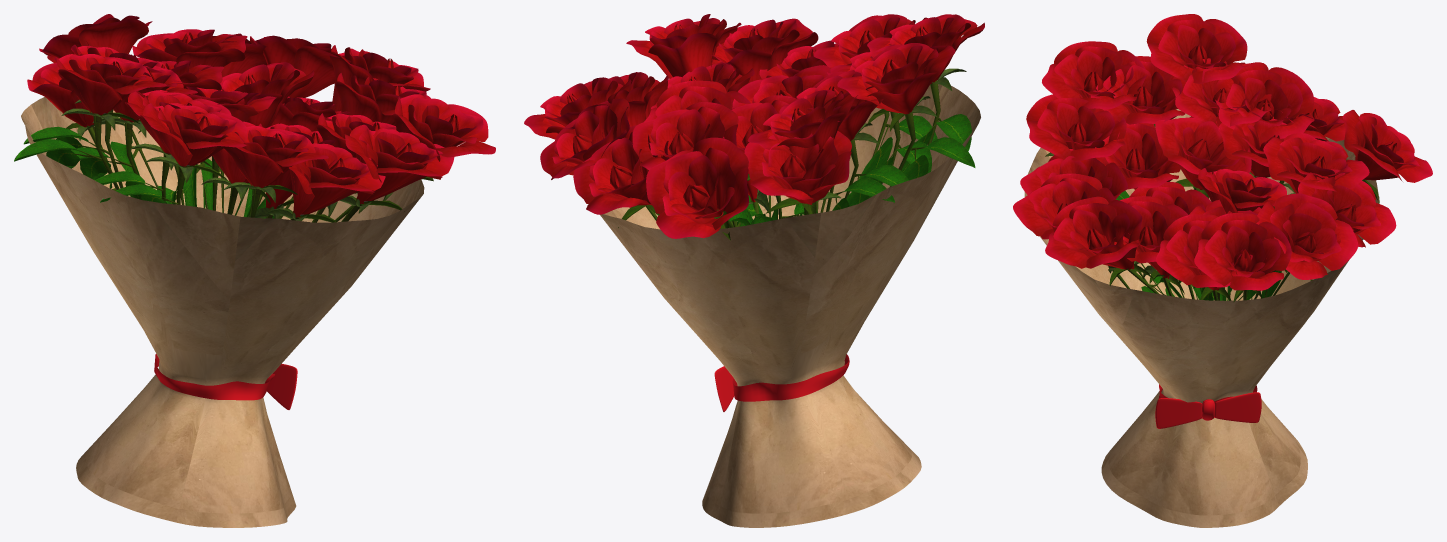
File: flowers.glb
3 renders of one model, left to right at view 1: azimuth 30°, elevation 25°; view 2: azimuth 150°, elevation 25°; view 3: azimuth 270°, elevation 25°, orthographic. The views are drawn at different scales.
Parts seen in each view (by area): view 1: Cylinder, Plane.078, Plane.079, Plane.005, Plane.081, Plane.085, Plane.004, Plane.075, Plane.082, Plane.067, Plane.083, Plane.001 (+13 smaller); view 2: Cylinder, Plane.082, Plane.078, Plane.076, Plane.088, Plane.080, Plane.075, Plane.079, Plane.085, Plane.083, Plane.005, Plane.004 (+10 smaller); view 3: Cylinder, Plane.085, Plane.087, Plane.083, Plane.078, Plane.080, Plane.004, Plane.079, Plane.075, Plane.082, Plane.002, Plane.088 (+13 smaller).
Part boxes in pixels (x1,y1,x2,y2): Cylinder: (21,97,424,527); Plane.078: (14,54,166,190); Plane.079: (100,103,247,204); Plane.005: (339,124,454,221); Plane.081: (264,143,385,222); Plane.085: (335,94,495,221); Plane.004: (221,125,328,217); Plane.075: (132,29,247,208); Plane.082: (39,14,157,187); Plane.067: (220,62,314,218); Plane.083: (235,35,350,217); Plane.001: (95,90,231,201); Cylinder: (600,84,980,527); Plane.082: (646,137,772,240); Plane.078: (837,43,975,186); Plane.076: (744,131,851,214); Plane.088: (573,125,668,227); Plane.080: (747,90,894,211); Plane.075: (632,102,752,225); Plane.079: (867,14,984,172); Plane.085: (626,14,744,226); Plane.083: (540,98,629,179); Plane.005: (710,18,818,220); Plane.004: (814,14,937,179); Cylinder: (1024,109,1378,527); Plane.085: (1045,196,1158,293); Plane.087: (1194,213,1291,302); Plane.083: (1228,193,1358,299); Plane.078: (1146,14,1247,116); Plane.080: (1213,62,1314,299); Plane.004: (1026,93,1162,294); Plane.079: (1042,41,1166,287); Plane.075: (1261,133,1369,297); Plane.082: (1238,110,1432,300); Plane.002: (1155,116,1251,300); Plane.088: (1261,169,1396,298).
Bounding box in the file's own units: 27.31 × 29.22 × 26.44.
7 materials, 6 textured.
